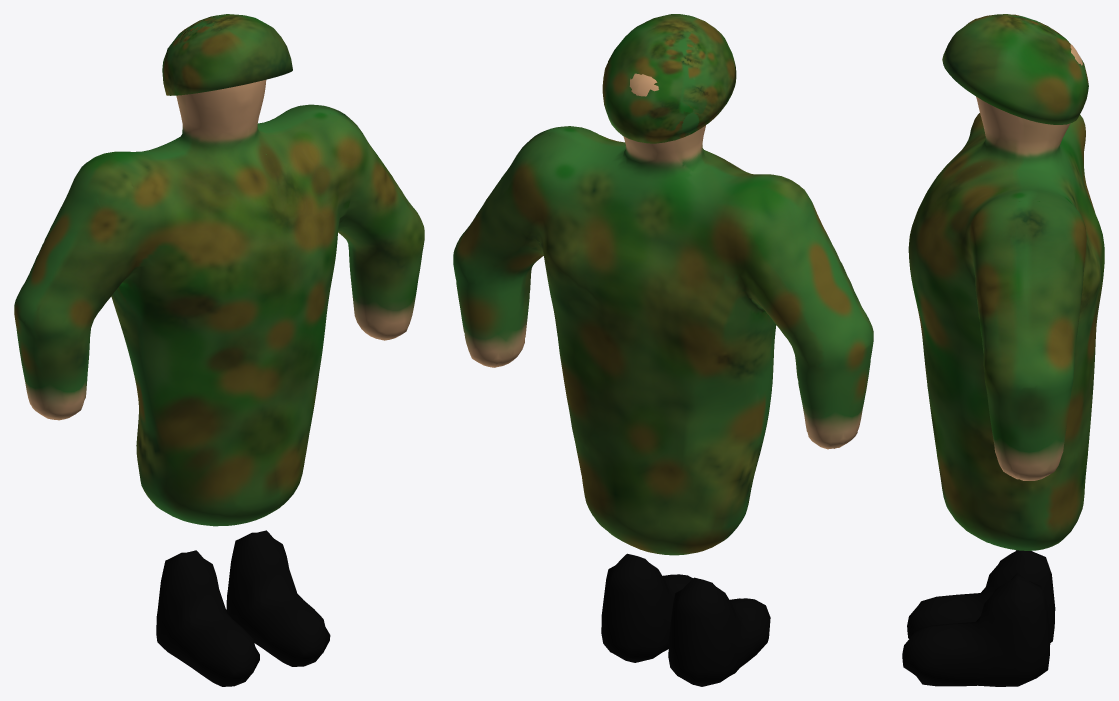
Rendered from Soldier2023.fbx.
The picture shows the model from 3 angles, left to right: view 1: azimuth 30°, elevation 25°; view 2: azimuth 150°, elevation 25°; view 3: azimuth 270°, elevation 25°; orthographic projection. The views are drawn at different scales.
Parts seen in each view (by area): view 1: Body.002, FootL.002, FootL.003, Helm.003; view 2: Body.002, Helm.003, FootL.002, FootL.003; view 3: Body.002, Helm.003, FootL.003, FootL.002.
Part boxes in pixels (left/top/right/bottom): Body.002: left=14, top=80, right=424, bottom=526; FootL.002: left=156, top=550, right=259, bottom=686; FootL.003: left=226, top=530, right=330, bottom=666; Helm.003: left=162, top=14, right=292, bottom=95; Body.002: left=453, top=73, right=873, bottom=555; Helm.003: left=602, top=14, right=736, bottom=143; FootL.002: left=668, top=577, right=770, bottom=686; FootL.003: left=601, top=553, right=692, bottom=662; Body.002: left=908, top=44, right=1104, bottom=550; Helm.003: left=942, top=14, right=1088, bottom=124; FootL.003: left=902, top=573, right=1050, bottom=686; FootL.002: left=907, top=550, right=1055, bottom=642.
Bounding box in the file's own units: 166 × 253 × 71.06.
